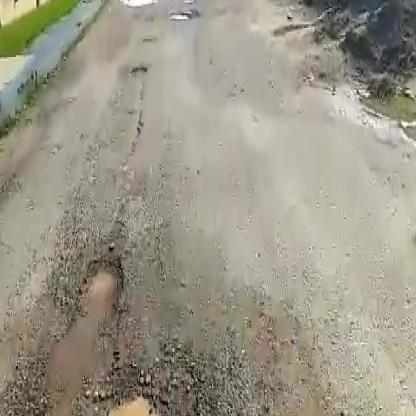pothole: (76, 259, 127, 326), (99, 374, 177, 416), (112, 0, 157, 8)
